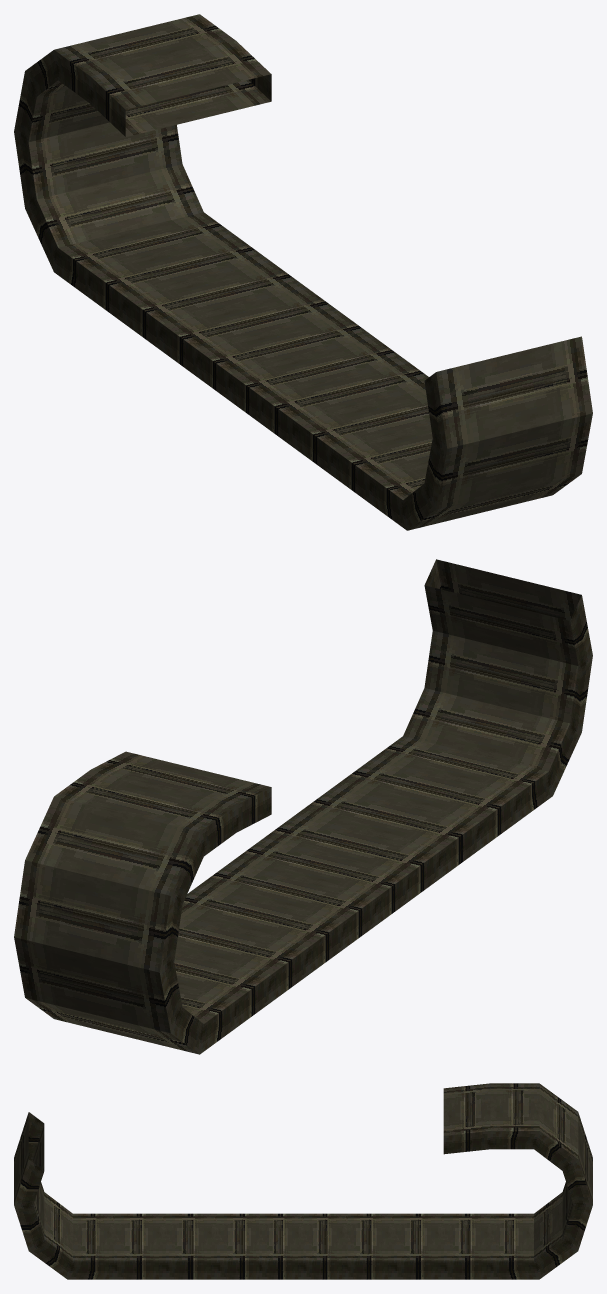
Rendered from VTHTNKH_TRAC_R.obj.
The picture shows the model from 3 angles, top to bottom: view 1: azimuth 30°, elevation 25°; view 2: azimuth 150°, elevation 25°; view 3: azimuth 270°, elevation 25°; orthographic projection. The views are drawn at different scales.
Parts seen in each view (by area): view 1: Node 0; view 2: Node 0; view 3: Node 0.
Part boxes in pixels (x1,y1,x2,y2): Node 0: (14,14,592,530); Node 0: (14,559,592,1054); Node 0: (14,1083,592,1279).
Size of the model in its own units: 1.22 by 1.78 by 6.28.
Materials: 1 (1 with a texture image).
